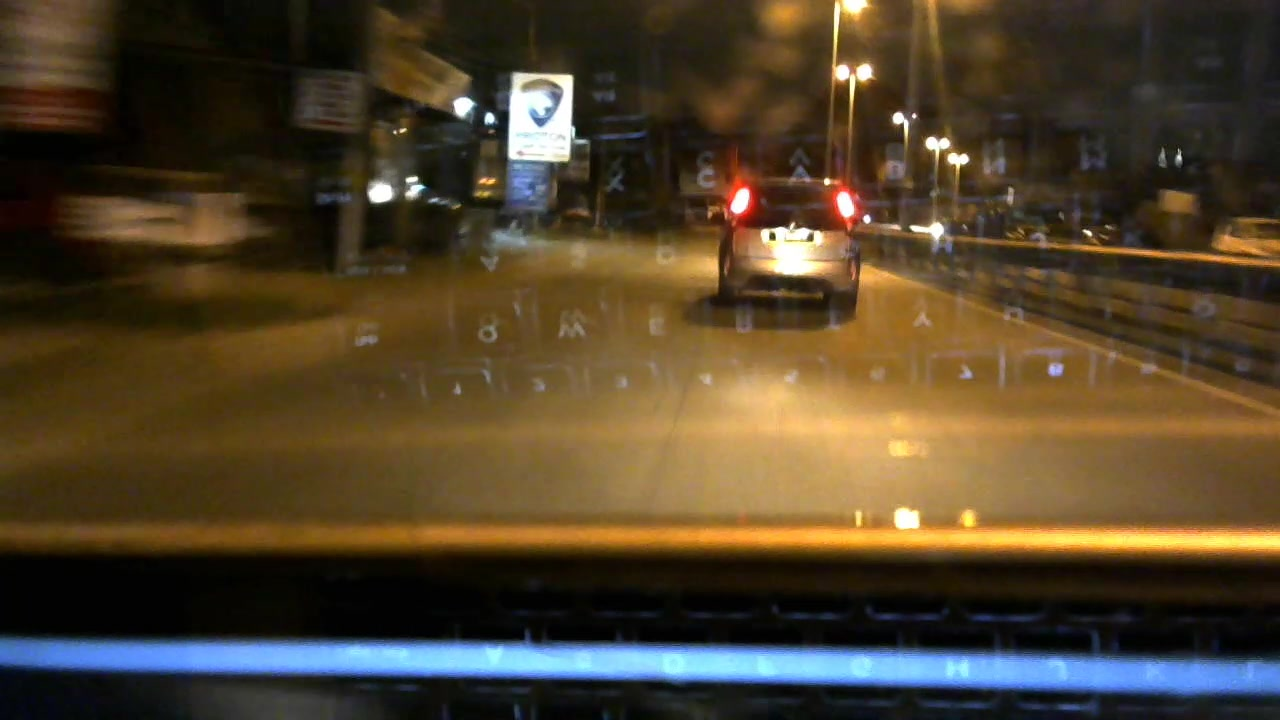Car: (712, 159, 866, 315)
